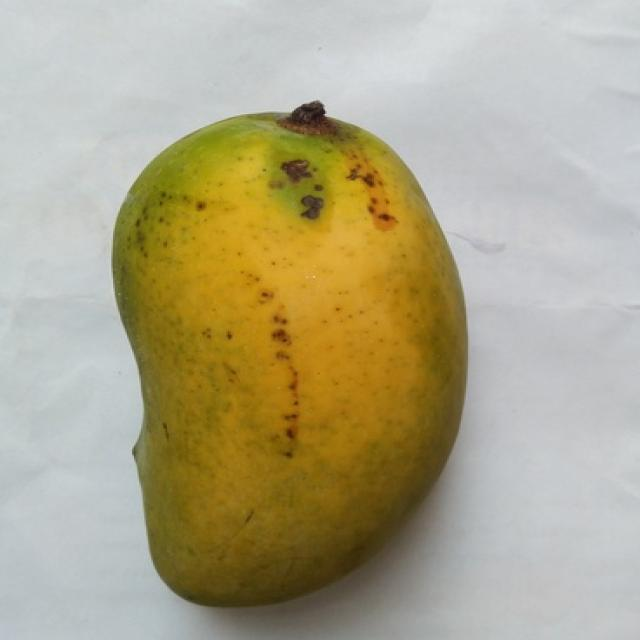Mango: (115, 113, 464, 604)
